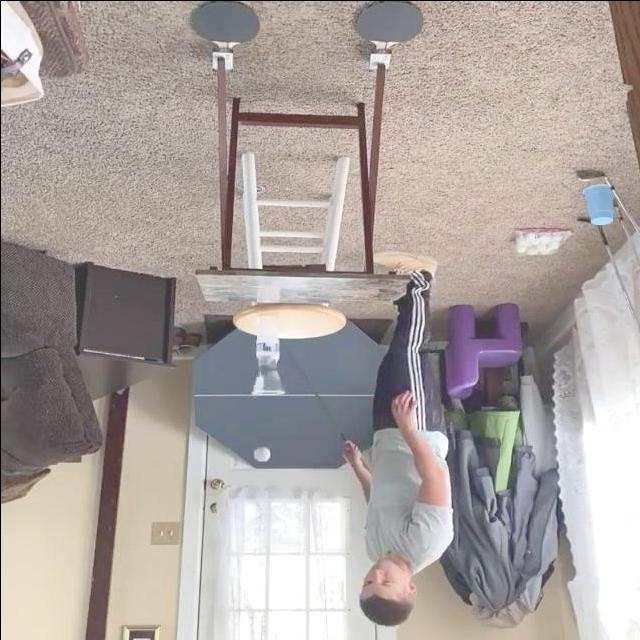ClubHandle: (280, 341, 343, 438)
GolfBall: (252, 445, 269, 461)
